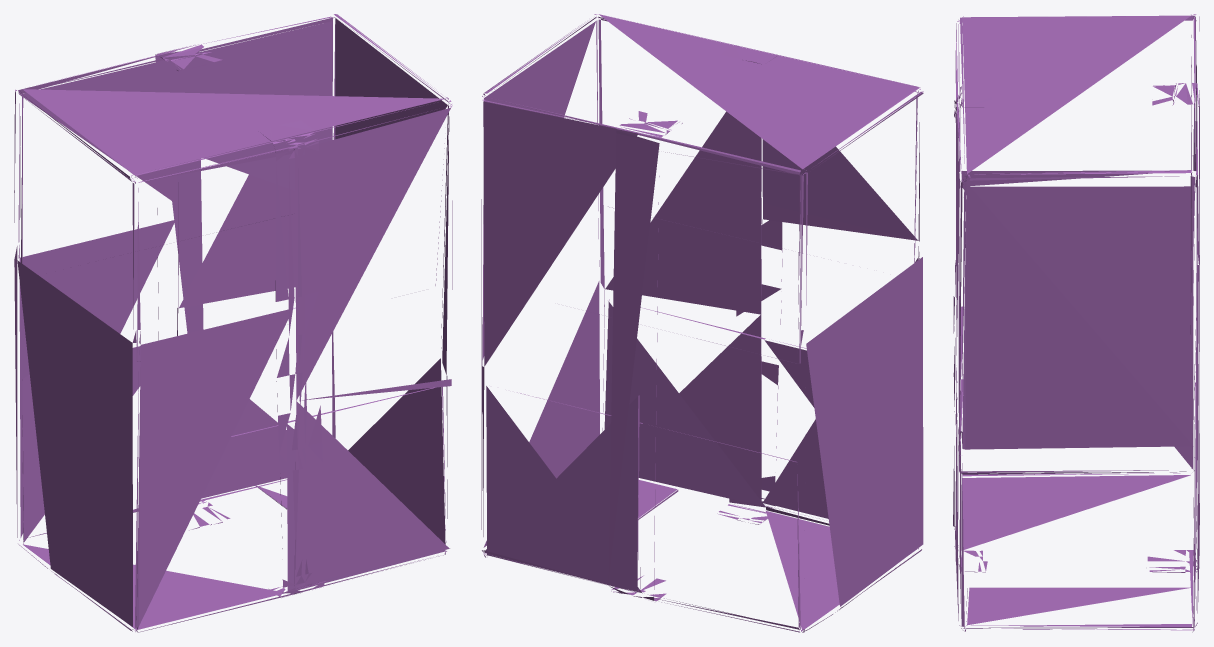
The model's file is box_printer_white_b07.glb.
3 renders of one model, left to right at view 1: azimuth 30°, elevation 25°; view 2: azimuth 150°, elevation 25°; view 3: azimuth 270°, elevation 25°, orthographic.
Visible parts, largest first — view 1: geometry_0; view 2: geometry_0; view 3: geometry_0.
Boxes of the visible parts, x1=… form: geometry_0: x1=14, y1=14, x2=452, y2=632; geometry_0: x1=481, y1=14, x2=923, y2=632; geometry_0: x1=953, y1=14, x2=1199, y2=632.
Size of the model in its own units: 0.3517 by 0.48 by 0.2314.
